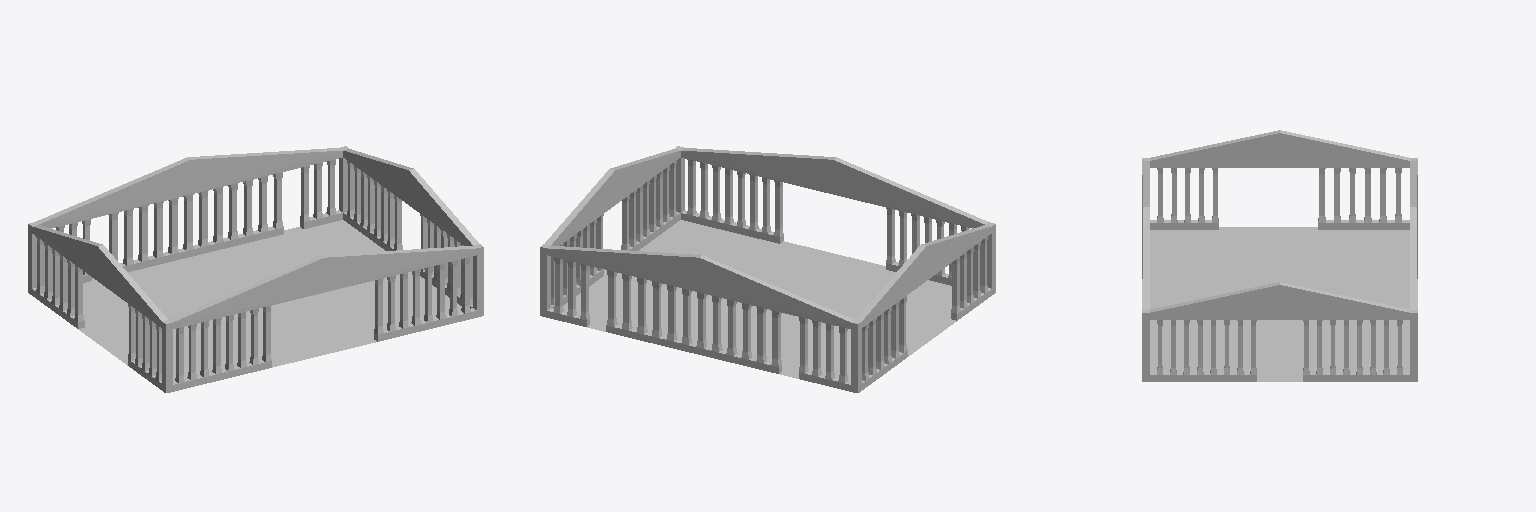
Rendered from RoomCenter.obj.
3 views of the same model, side by side, from view 1: azimuth 30°, elevation 25°; view 2: azimuth 150°, elevation 25°; view 3: azimuth 270°, elevation 25° (orthographic).
Visible parts, largest first — view 1: Cube.000; view 2: Cube.000; view 3: Cube.000.
Part boxes in pixels (bbox=[...]): Cube.000: bbox=[28, 146, 483, 392]; Cube.000: bbox=[540, 146, 995, 392]; Cube.000: bbox=[1142, 130, 1417, 381].
Size of the model in its own units: 48 by 14 by 36.